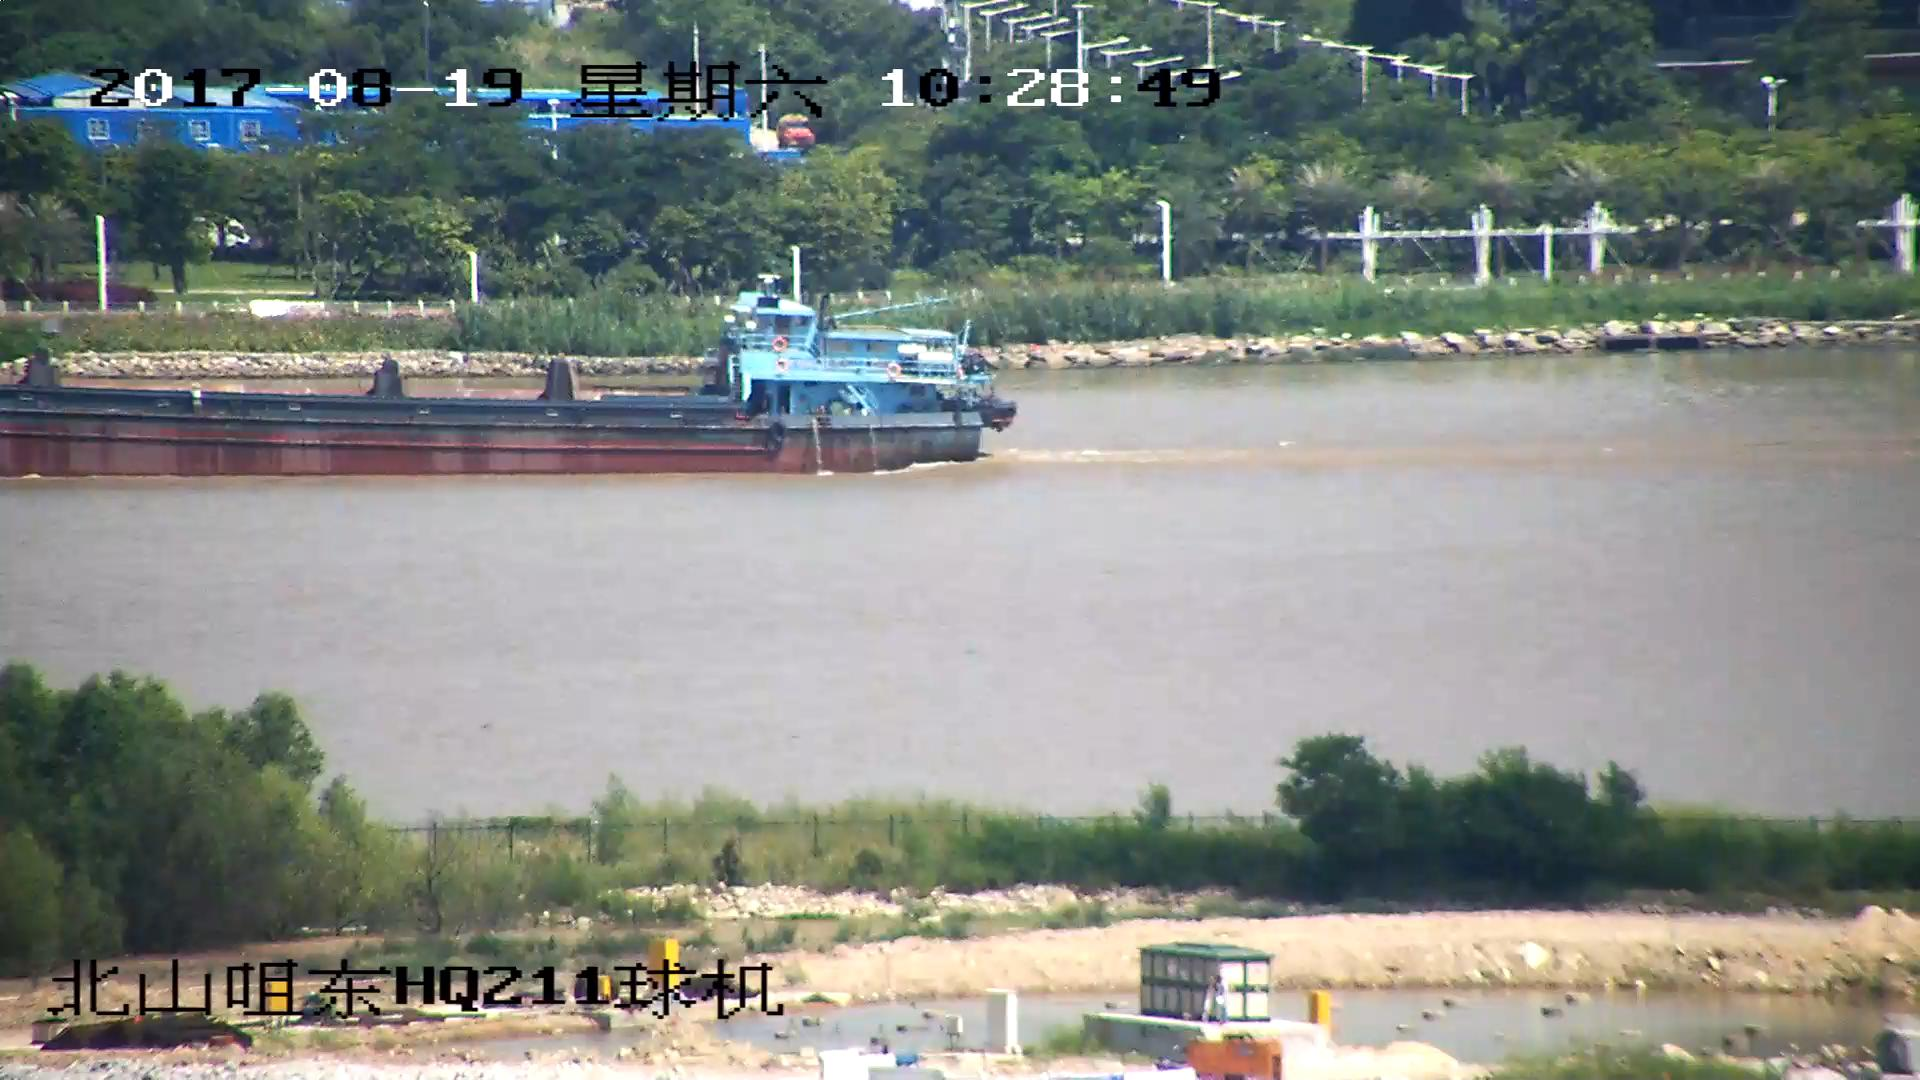bulk cargo carrier: (1, 275, 1016, 476)
